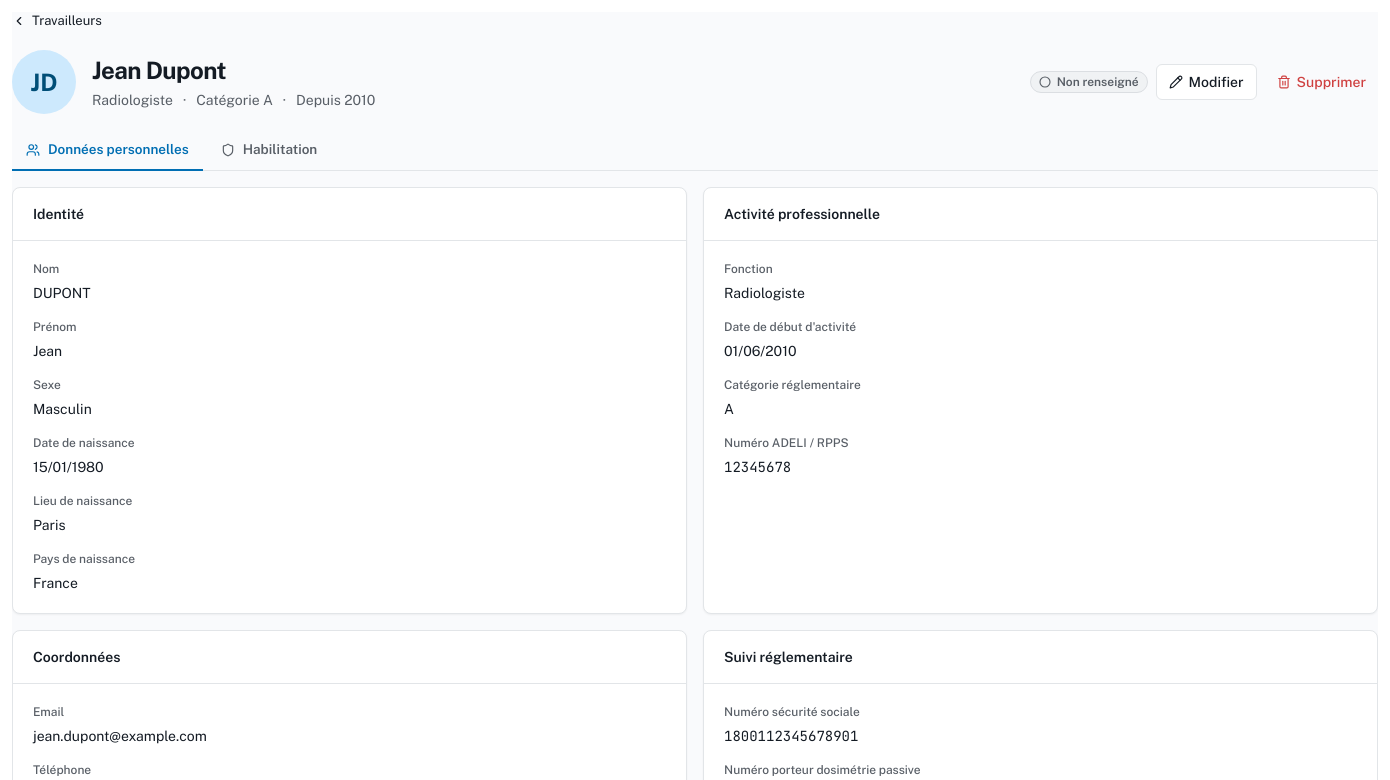
Test: TravailleurFiche › should switch to Habilitation tab and display items
This screenshot has width=1390, height=780.
Click the button "Habilitation": (269, 150) [207, 130, 331, 171]
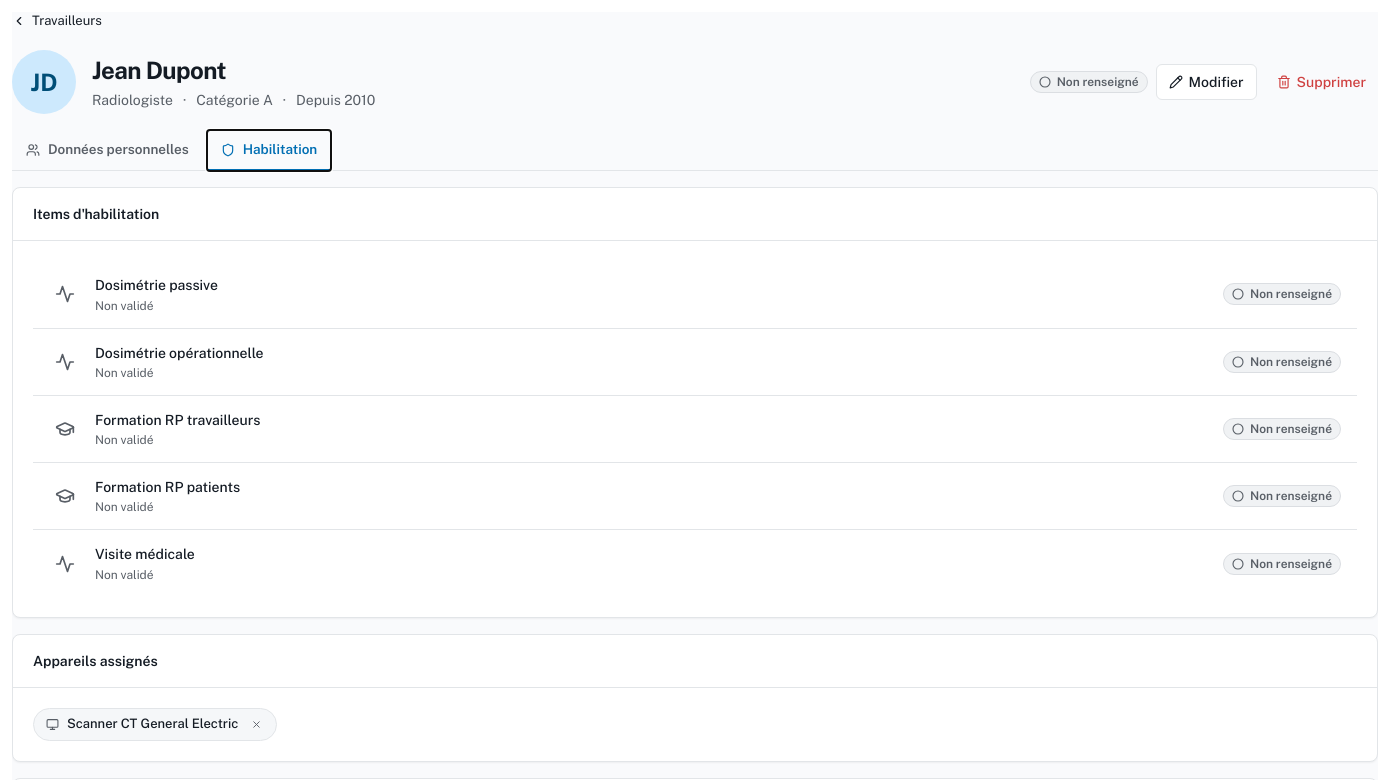
Now the text "Items d'habilitation" is shown, box [33, 204, 159, 224]
